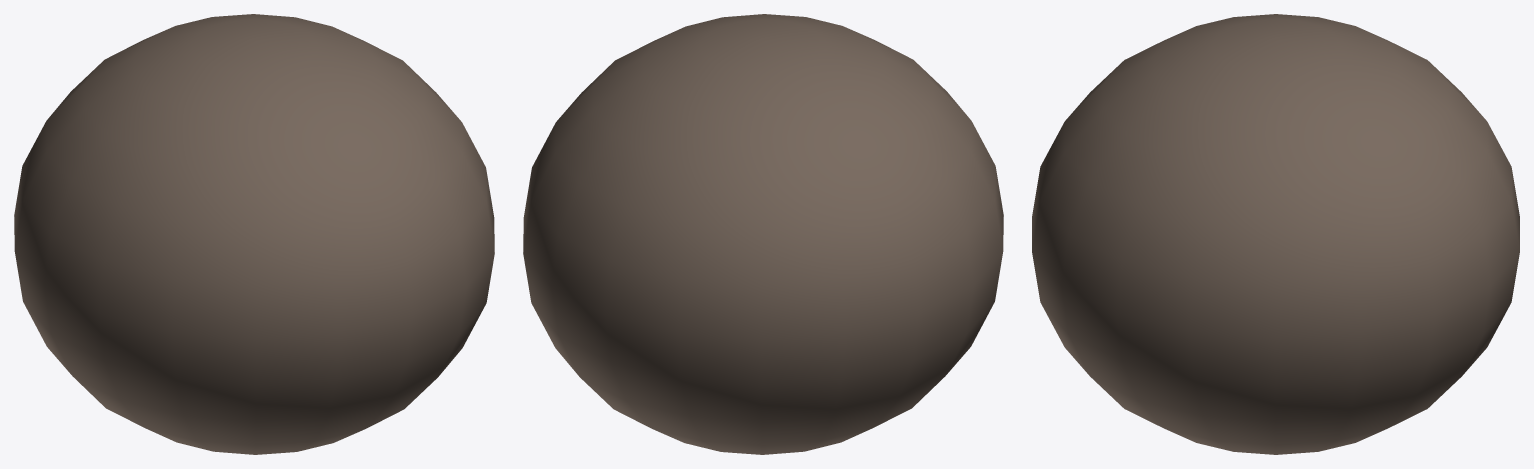
The model's file is hair-buzz.glb.
3 views of the same model, side by side, from view 1: azimuth 30°, elevation 25°; view 2: azimuth 150°, elevation 25°; view 3: azimuth 270°, elevation 25° (orthographic).
Visible parts, largest first — view 1: Hair; view 2: Hair; view 3: Hair.
Part boxes in pixels (x1,y1,x2,y2): Hair: (14,14,494,454); Hair: (523,14,1003,454); Hair: (1032,14,1519,454).
Size of the model in its own units: 0.226 by 0.2 by 0.2265.
